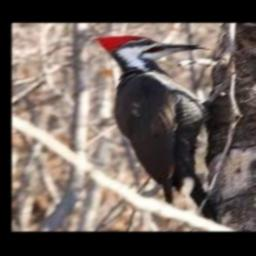Woodpecker: (97, 36, 214, 223)
